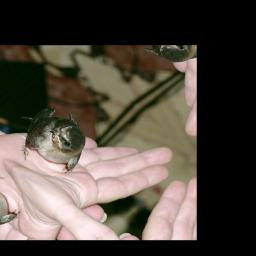Swallow: (0, 92, 107, 188)
